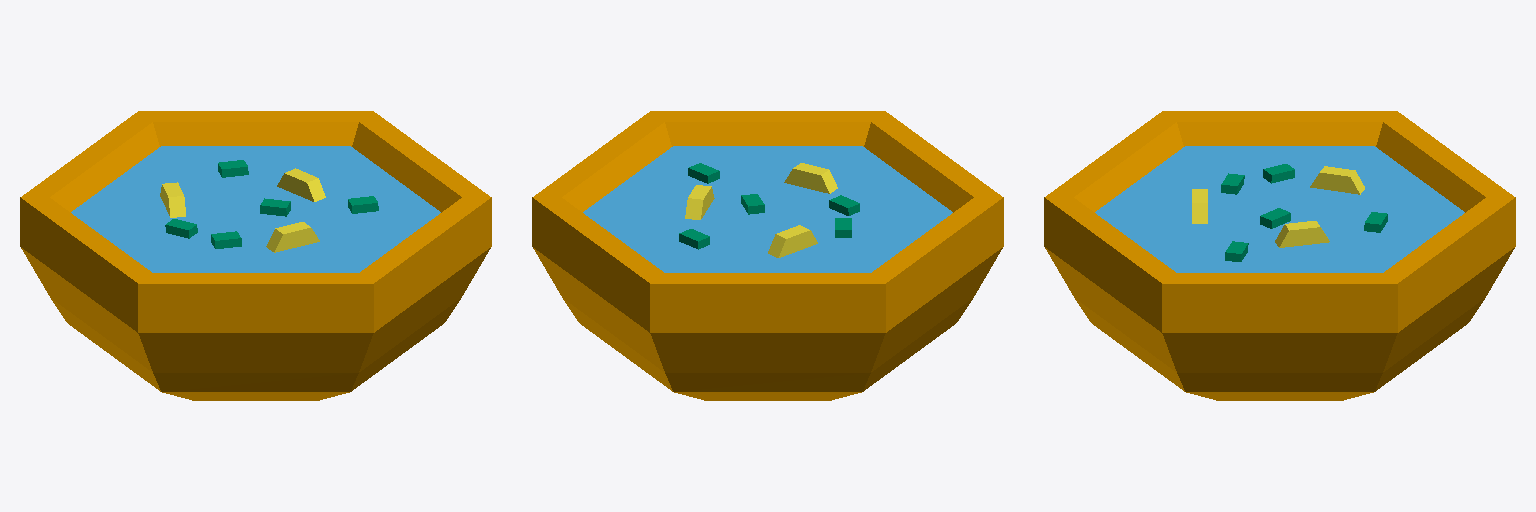
URDF robot description (chili_con_carne):
<?xml version="1.0"?>
<robot name="chili_con_carne">
  <link name="bowl">
    <inertial>
        <origin rpy="0 0 0" xyz="0 0 0"/>
        <mass value="0.02"/>
        <inertia ixx="4.4e-5" ixy="0" ixz="0" iyy="0" iyz="0" izz="4.4e-5"/>
    </inertial>
    <visual>
      <geometry>
        <mesh filename="chiliBowl.obj"/>
      </geometry>
    </visual>
    <collision>
      <geometry>
        <mesh filename="chiliBowlCollider.obj"/>
      </geometry>
      <surface>
           <bounce restitution_coefficient = "0.1"/>
      </surface>
    </collision>
  </link>
  <link name="chili">
    <inertial>
        <origin rpy="0 0 0" xyz="0 0 0"/>
        <mass value="0.005"/>
        <inertia ixx="4.4e-5" ixy="0" ixz="0" iyy="0" iyz="0" izz="4.4e-5"/>
    </inertial>
    <visual>
      <geometry>
        <mesh filename="chili.obj"/>
      </geometry>
    </visual>
    <collision>
      <geometry>
        <mesh filename="chili.obj"/>
      </geometry>
      <surface>
           <bounce restitution_coefficient = "0.1"/>
      </surface>
    </collision>
  </link>
  <link name="con">
    <inertial>
        <origin rpy="0 0 0" xyz="0 0 0"/>
        <mass value="0.005"/>
        <inertia ixx="4.4e-5" ixy="0" ixz="0" iyy="0" iyz="0" izz="4.4e-5"/>
    </inertial>
    <visual>
      <geometry>
        <mesh filename="corn.obj"/>
      </geometry>
    </visual>
    <collision>
      <geometry>
        <mesh filename="corn.obj"/>
      </geometry>
      <surface>
           <bounce restitution_coefficient = "0.1"/>
      </surface>
    </collision>
  </link>
  <link name="carne">
    <inertial>
        <origin rpy="0 0 0" xyz="0 0 0"/>
        <mass value="0.005"/>
        <inertia ixx="4.4e-5" ixy="0" ixz="0" iyy="0" iyz="0" izz="4.4e-5"/>
    </inertial>
    <visual>
      <geometry>
        <mesh filename="carne.obj"/>
      </geometry>
    </visual>
    <collision>
      <geometry>
        <mesh filename="carne.obj"/>
      </geometry>
      <surface>
           <bounce restitution_coefficient = "0.1"/>
      </surface>
    </collision>
  </link>
  <joint name="bowl_to_chili" type="fixed">
    <parent link="bowl"/>
    <child link="chili"/>
    <origin rpy="0 0 0" xyz="0 0 0.09"/> 
  </joint>
  <joint name="bowl_to_carne" type="fixed">
    <parent link="bowl"/>
    <child link="carne"/>
    <origin rpy="0 0 0" xyz="0 0 0.098023"/>
  </joint>
  <joint name="bowl_to_con" type="fixed">
    <parent link="bowl"/>
    <child link="con"/>
    <origin rpy="0 0 0" xyz="0 0 0.098023"/>
  </joint>
</robot>

--- Facts derived from the render (not from the file) ---
Views: 3 orthographic renders of the robot side by side, from view 1: azimuth 30°, elevation 25°; view 2: azimuth 150°, elevation 25°; view 3: azimuth 270°, elevation 25°.
Model chili_con_carne with 4 links and 3 joints (3 fixed), rooted at bowl, posed every joint at zero.
Links seen in each view (by area): view 1: bowl, chili, carne, con; view 2: bowl, chili, carne, con; view 3: bowl, chili, carne, con.
Link boxes in pixels (x1,y1,x2,y2): bowl: (20,111,491,400); chili: (71,146,440,272); carne: (160,168,325,252); con: (165,160,378,248); bowl: (532,111,1003,400); chili: (583,146,952,272); carne: (685,163,837,257); con: (679,163,859,249); bowl: (1044,111,1515,400); chili: (1095,146,1464,272); carne: (1192,166,1364,247); con: (1221,164,1387,261).
Size in the robot's own frame: 0.2511 by 0.2899 by 0.1069 metres.
4 mesh visuals loaded from 4 distinct referenced files (4 OBJ).
